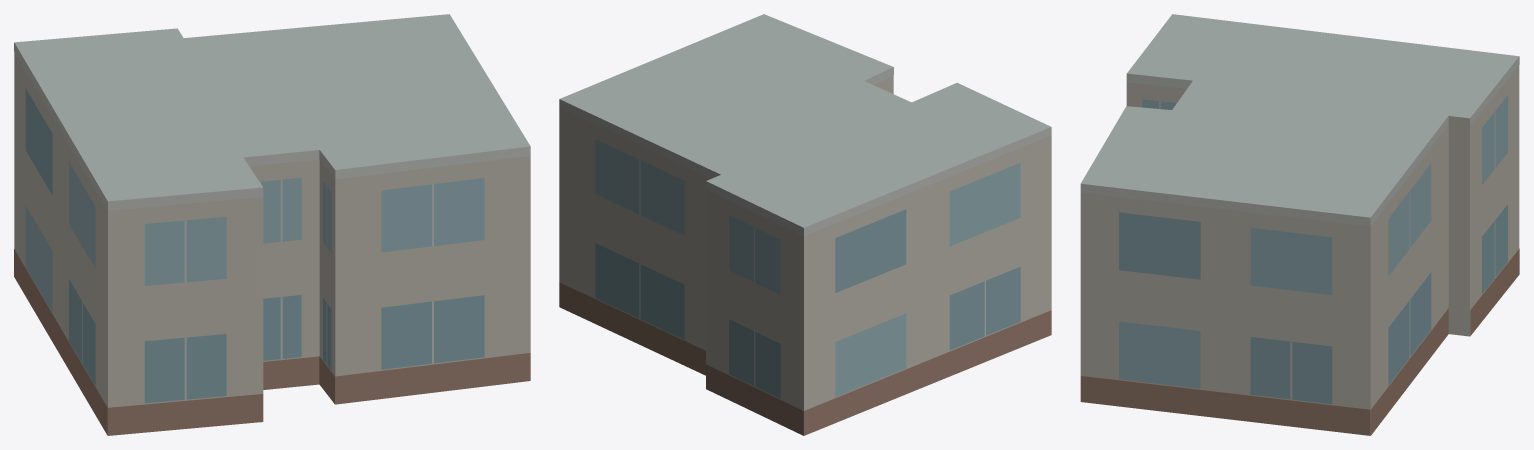
File: survey-upis-32994269.glb
3 renders of one model, left to right at view 1: azimuth 30°, elevation 25°; view 2: azimuth 150°, elevation 25°; view 3: azimuth 270°, elevation 25°, orthographic. The views are drawn at different scales.
Visible parts, largest first — view 1: survey-upis-32994269.tmp; view 2: survey-upis-32994269.tmp; view 3: survey-upis-32994269.tmp.
Part boxes in pixels (x1=…): survey-upis-32994269.tmp: x1=14, y1=14, x2=530, y2=435; survey-upis-32994269.tmp: x1=559, y1=14, x2=1051, y2=435; survey-upis-32994269.tmp: x1=1080, y1=14, x2=1519, y2=435.
Bounding box in the file's own units: 12.22 × 6.1 × 11.13.
